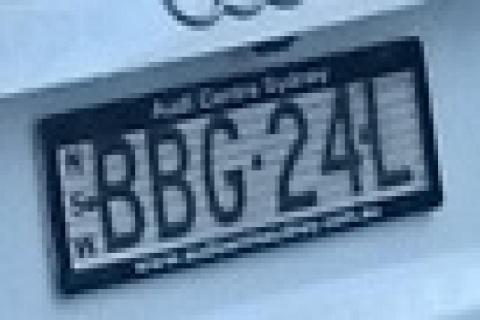LicensePlate: (28, 23, 448, 311)
